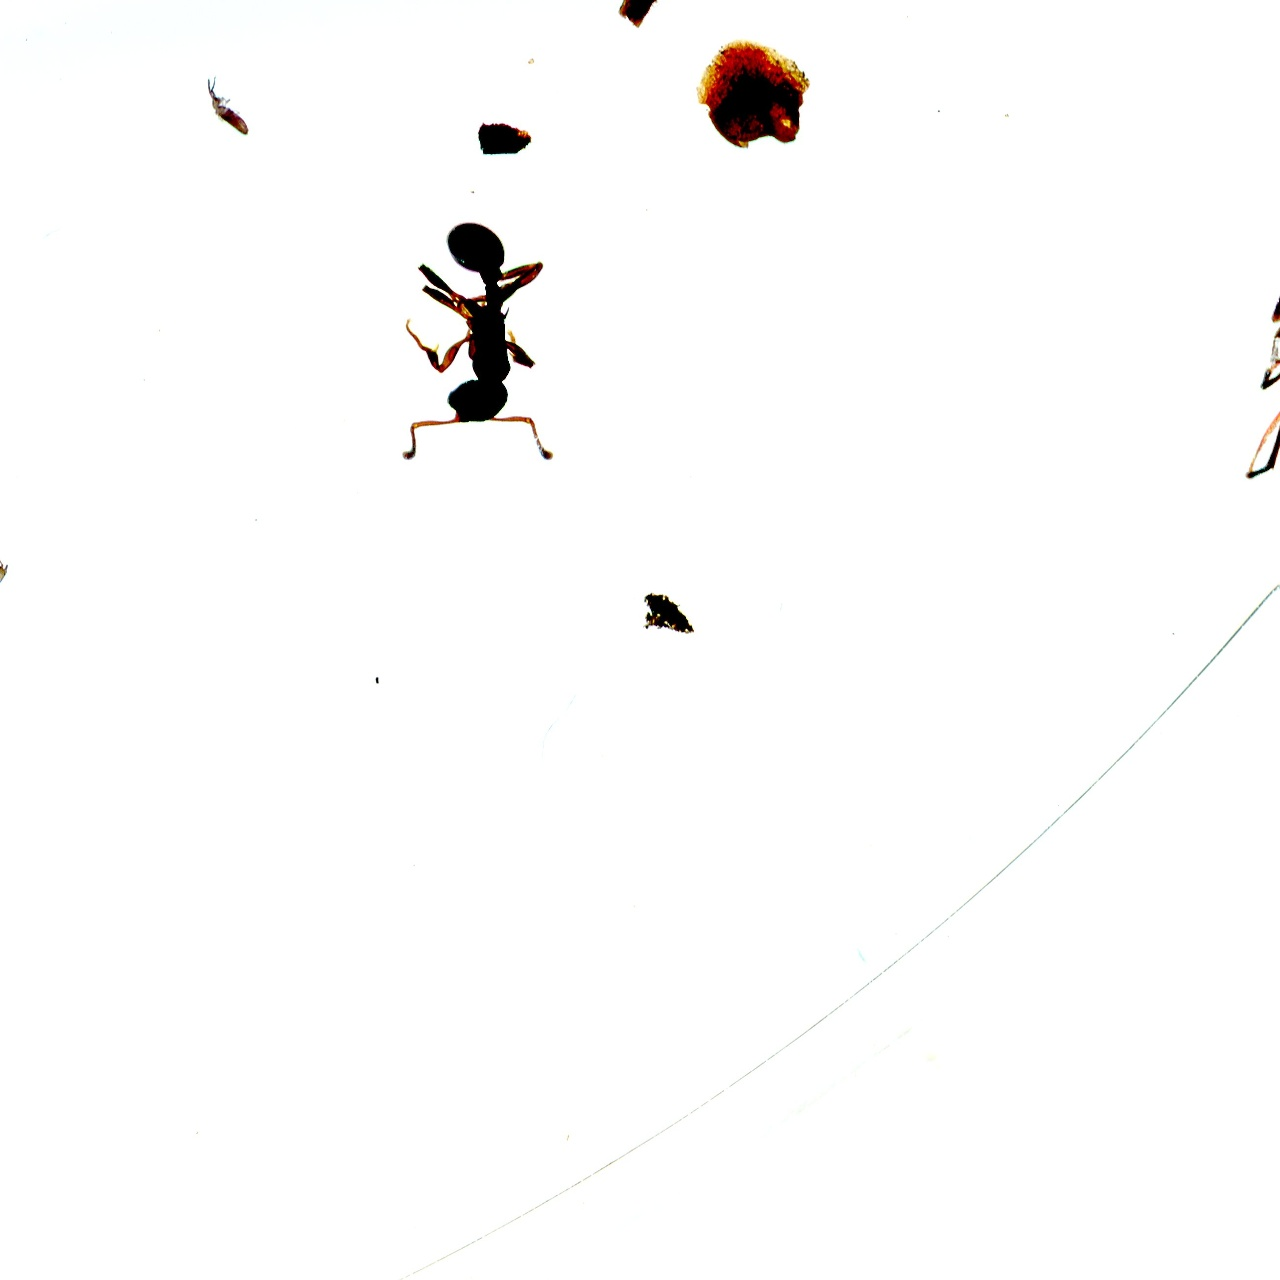arthropod: (390, 212, 565, 475), (1235, 260, 1280, 483), (199, 67, 272, 152), (0, 529, 39, 638)
